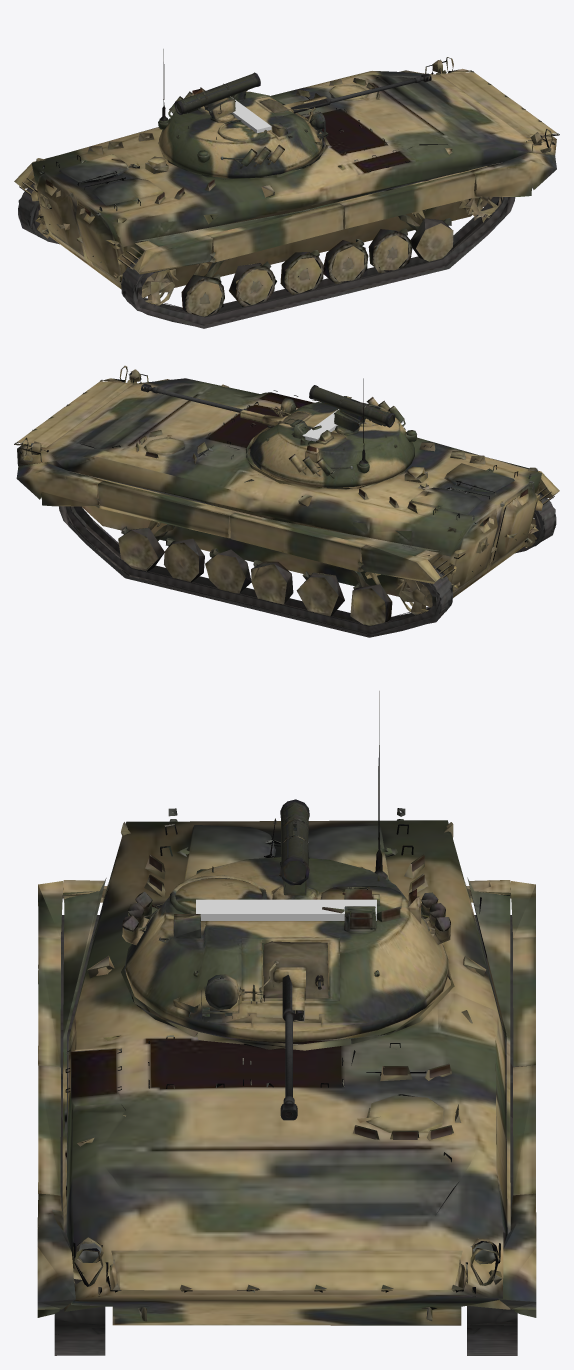
File: bmp2.glb
3 renders of one model, top to bottom at view 1: azimuth 30°, elevation 25°; view 2: azimuth 150°, elevation 25°; view 3: azimuth 270°, elevation 25°, orthographic. The views are drawn at different scales.
Visible parts, largest first — view 1: g_bmp2_hull, g_bmp2_turret, g_bmp2_gun; view 2: g_bmp2_hull, g_bmp2_turret, g_bmp2_gun; view 3: g_bmp2_hull, g_bmp2_turret, g_bmp2_gun.
Boxes of the visible parts, left/top/right/bottom form: g_bmp2_hull: left=14, top=57, right=559, bottom=328; g_bmp2_turret: left=158, top=49, right=328, bottom=178; g_bmp2_gun: left=291, top=73, right=431, bottom=113; g_bmp2_hull: left=14, top=365, right=559, bottom=637; g_bmp2_turret: left=240, top=378, right=416, bottom=487; g_bmp2_gun: left=141, top=383, right=252, bottom=416; g_bmp2_hull: left=37, top=808, right=536, bottom=1355; g_bmp2_turret: left=122, top=691, right=450, bottom=1041; g_bmp2_gun: left=280, top=975, right=303, bottom=1120.
Bounding box in the file's own units: 6.71 × 3.5 × 3.22.
Materials: 4 (3 with a texture image).
